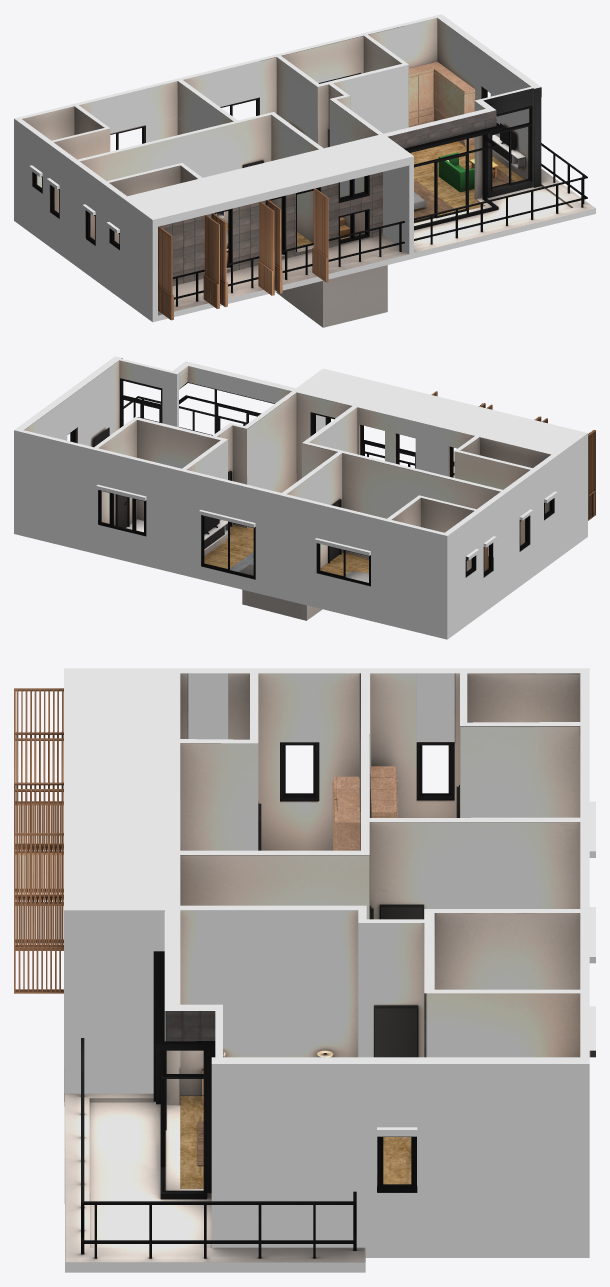
Rendered from 20220624_SCASSET_SH2510_2ndFloorBaked_v04.gltf.
3 views of the same model, one above another, from view 1: azimuth 30°, elevation 25°; view 2: azimuth 150°, elevation 25°; view 3: azimuth 270°, elevation 25° (orthographic). The views are drawn at different scales.
Visible parts, largest first — view 1: polySurface2, Plane.006, Cube.145, Wood_mat3, pCube86, pCube100, brown4, Wood_mat13; view 2: polySurface2, Plane.006, pCube86, Cube.145, pCube125, Wood_mat13; view 3: polySurface2, Cube.145, Plane.006, Wood_mat3, pCube125, pCube86.
Boxes of the visible parts, x1,y1,x2,y2 form: polySurface2: (14,14,595,327); Plane.006: (32,73,587,306); Cube.145: (158,188,328,320); Wood_mat3: (409,61,475,145); pCube86: (226,141,523,246); pCube100: (414,167,514,218); brown4: (438,152,474,192); Wood_mat13: (216,134,525,218); polySurface2: (14,356,587,639); Plane.006: (68,378,553,586); pCube86: (126,519,368,575); Cube.145: (431,391,595,520); pCube125: (115,471,341,563); Wood_mat13: (204,520,227,550); polySurface2: (64,668,595,1272); Cube.145: (14,688,63,993); Plane.006: (81,742,454,1258); Wood_mat3: (332,766,397,850); pCube125: (258,785,459,1057); pCube86: (180,1096,411,1188).
Bounding box in the file's own units: 17.2 × 6.46 × 10.25.
